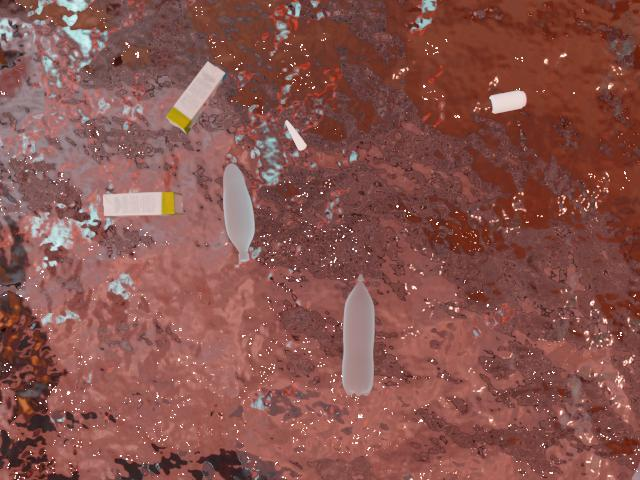Metal: (481, 80, 534, 121), (275, 107, 312, 156)
Plastic: (330, 270, 384, 398), (219, 161, 262, 272)
Trash: (162, 57, 233, 140), (82, 179, 189, 224)
